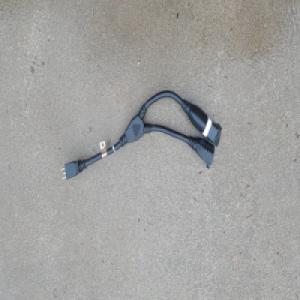Wire: (59, 88, 223, 182)
